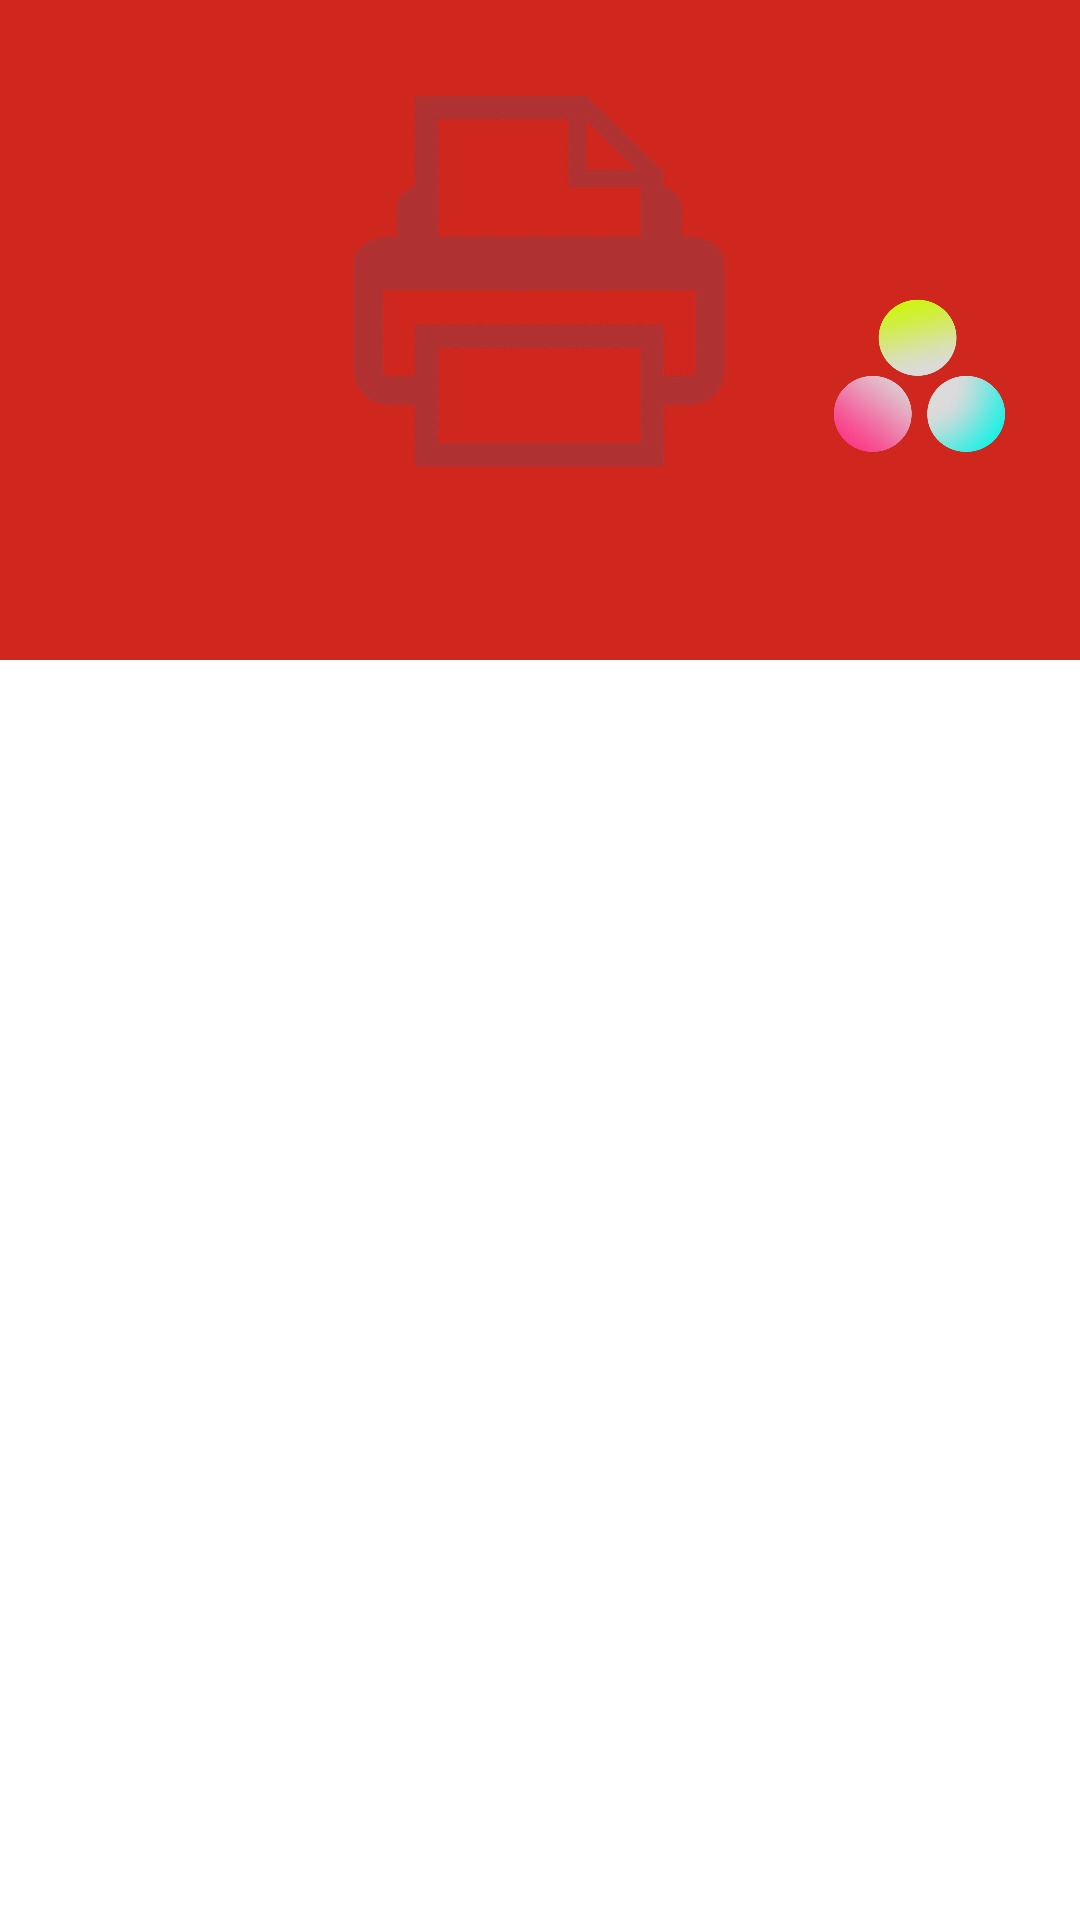

Named icons in this screenshot (1080 × 1920) and their bounding boxes, (x1, y1, x2, y2):
toner row: (834, 300, 1005, 452)
